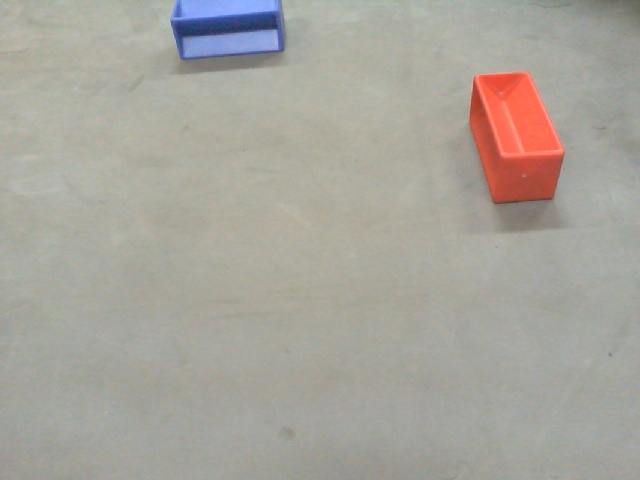BlueSample: (170, 1, 287, 71)
RedSample: (463, 73, 567, 210)
